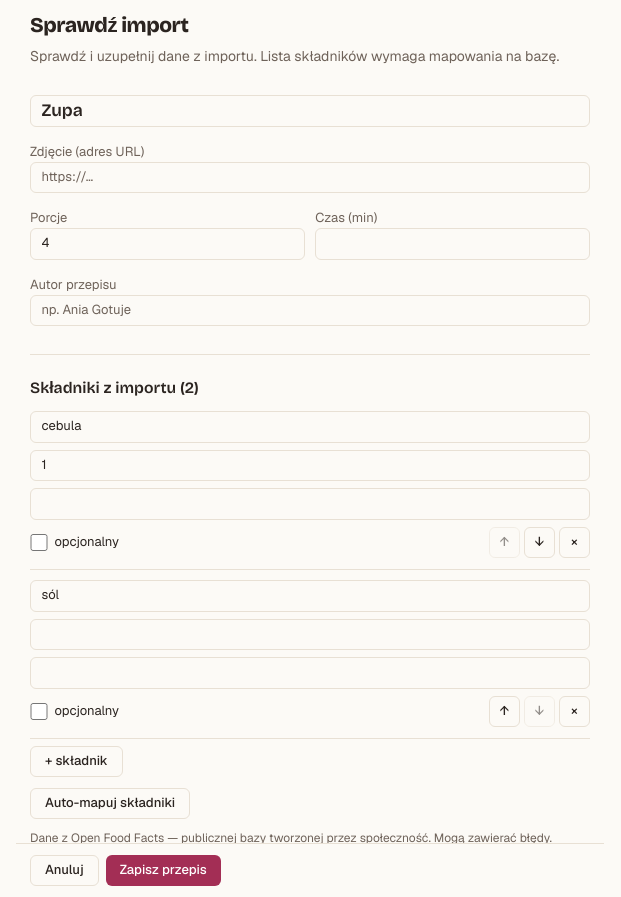
Test: ImportReviewForm editing › auto-match uses the edited rows: removed row gone, added row present
Click the button named "Usuń składnik z importu 2" at x=574, y=711, box [558,696,590,727]
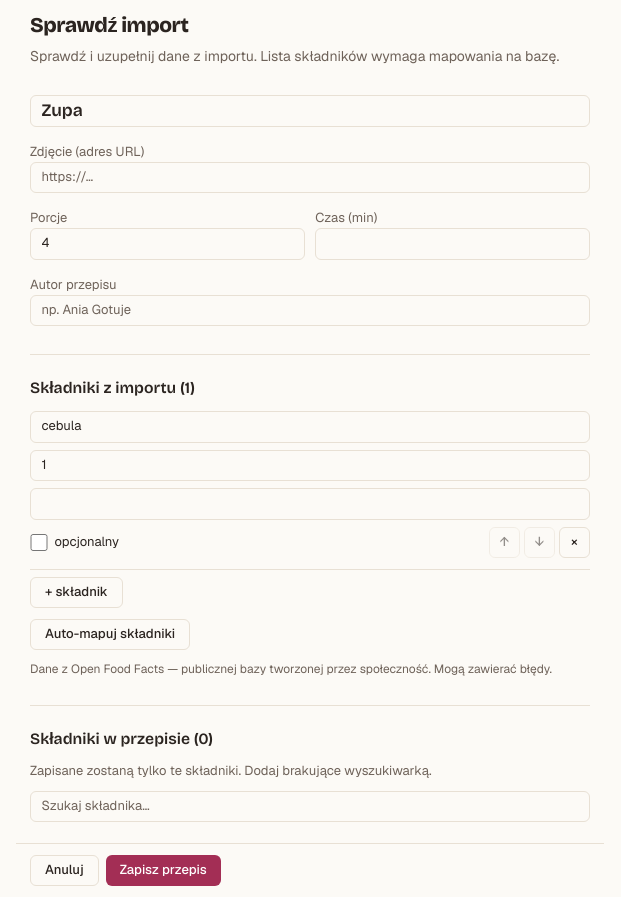
Click the button "+ składnik" at x=76, y=592, box [30,576,123,608]
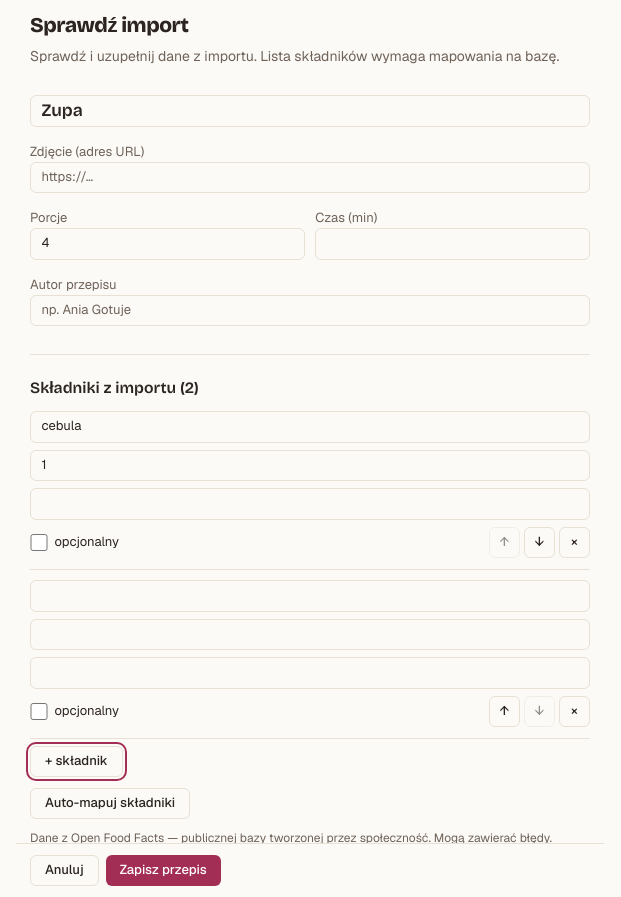
Type "mąka" into the field named "Nazwa składnika z importu 2" at x=310, y=596, box [30,580,590,612]
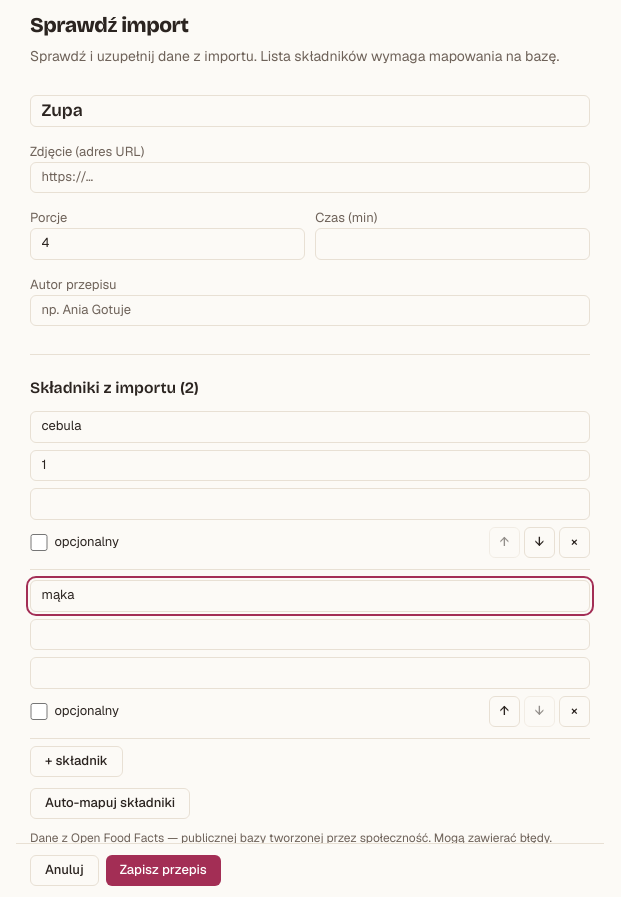
Click the button "Auto-mapuj składniki" at x=110, y=803, box [30,788,190,819]
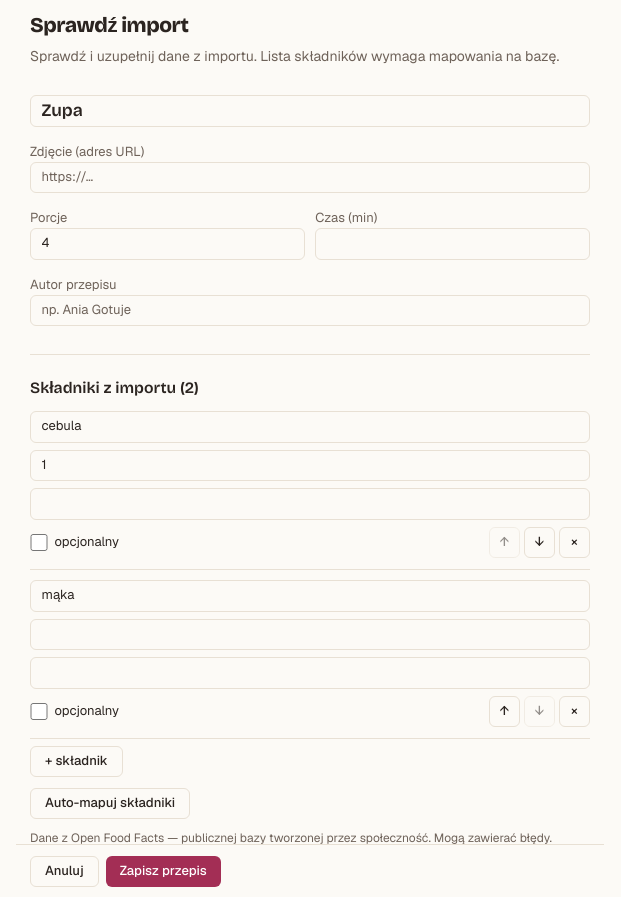
Result: the message reads "Dopasowane: 2, nowe: 0, bez dopasowania: 0." at [30,856,302,873]
